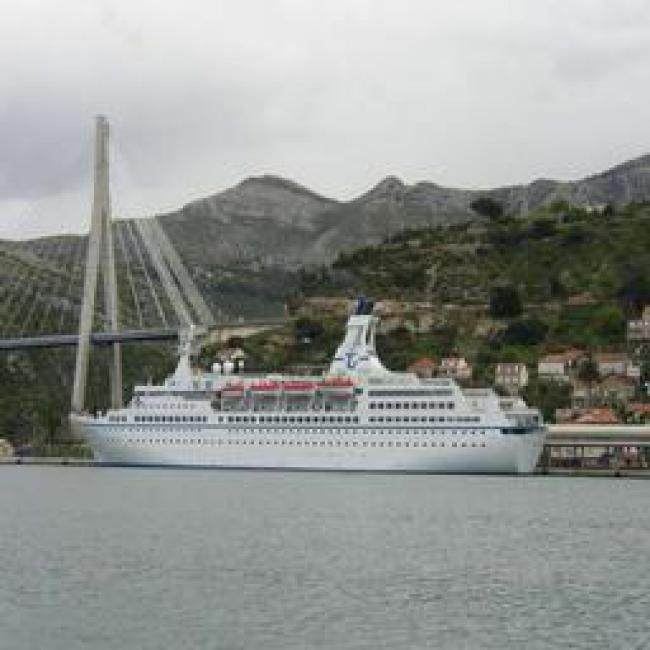Ship: (73, 348, 556, 483)
